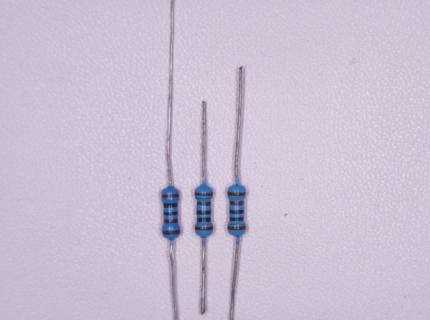Black band: (164, 203, 177, 208), (197, 211, 211, 215), (230, 210, 244, 214), (164, 211, 177, 215), (198, 218, 211, 222), (231, 217, 243, 221)
Brown band: (162, 230, 180, 235), (228, 226, 246, 230), (228, 192, 245, 196), (164, 219, 178, 223), (230, 201, 244, 205), (195, 193, 213, 196), (198, 202, 211, 206), (162, 195, 179, 198), (196, 227, 213, 230)
